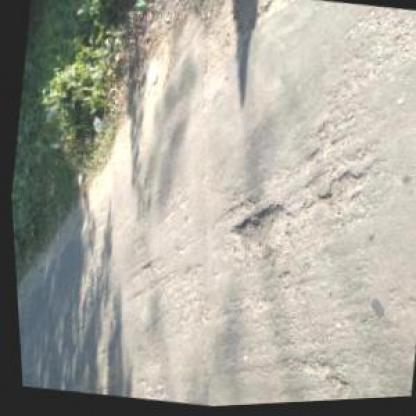pothole: (221, 194, 291, 261), (313, 164, 366, 222)
